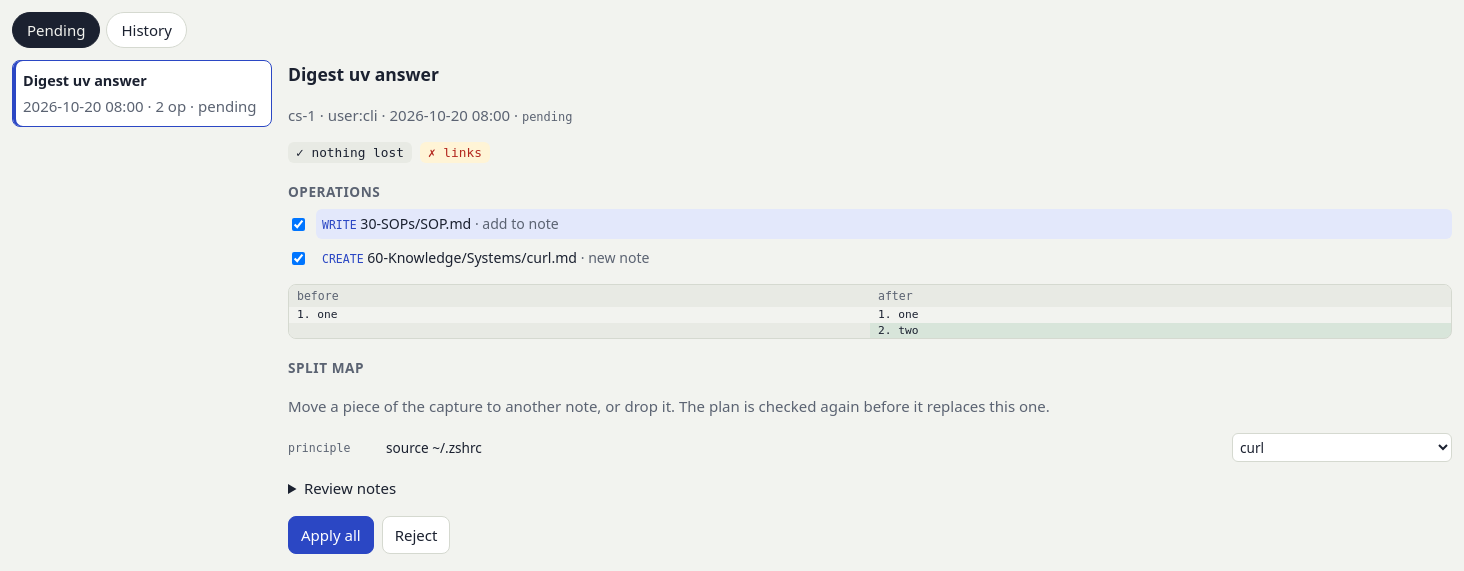
it: ReviewScreen › shows the changeset, its checks and the first operation's diff
Check: the heading "Digest uv answer" is shown, box [288, 62, 439, 86]
Check: the list item "✗ links" is shown, box [420, 142, 490, 163]
Click the button "create 60-Knowledge/Systems/curl.md · new note" at (343, 259), box [316, 243, 1452, 274]
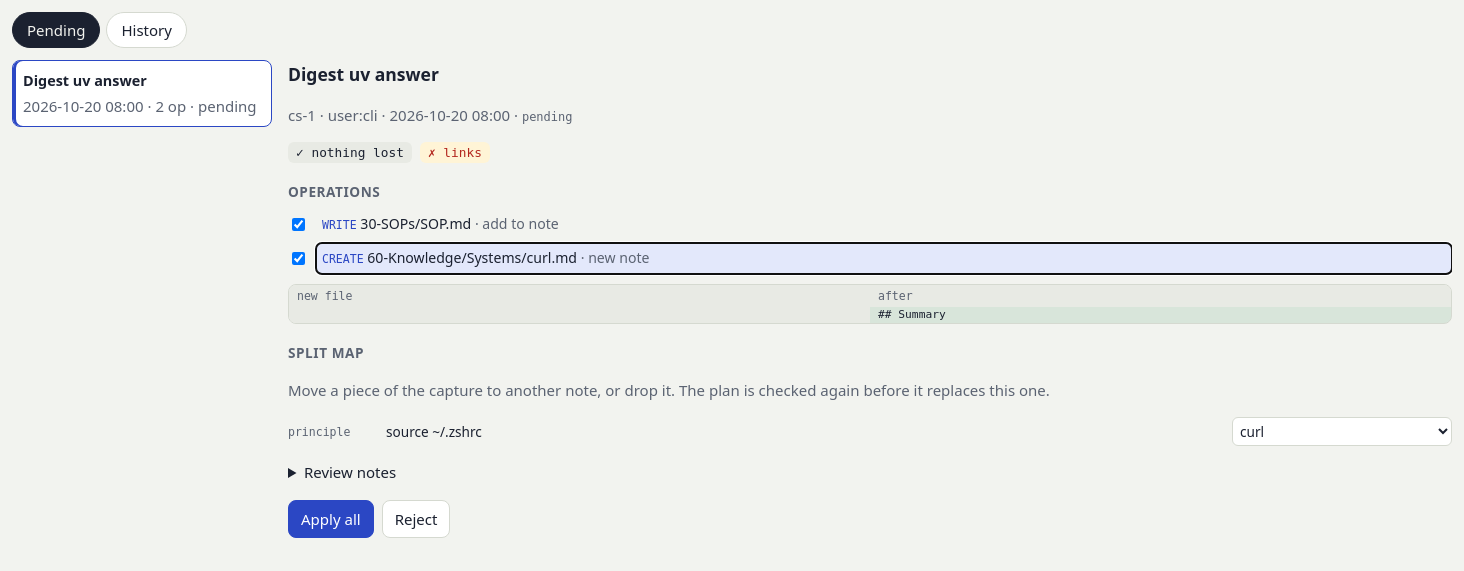
Check: the column heading "new file" is shown, box [289, 285, 870, 307]
